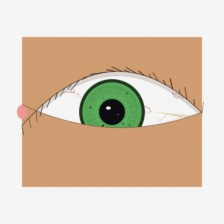pterygium_lesion: (146, 89, 203, 135)
